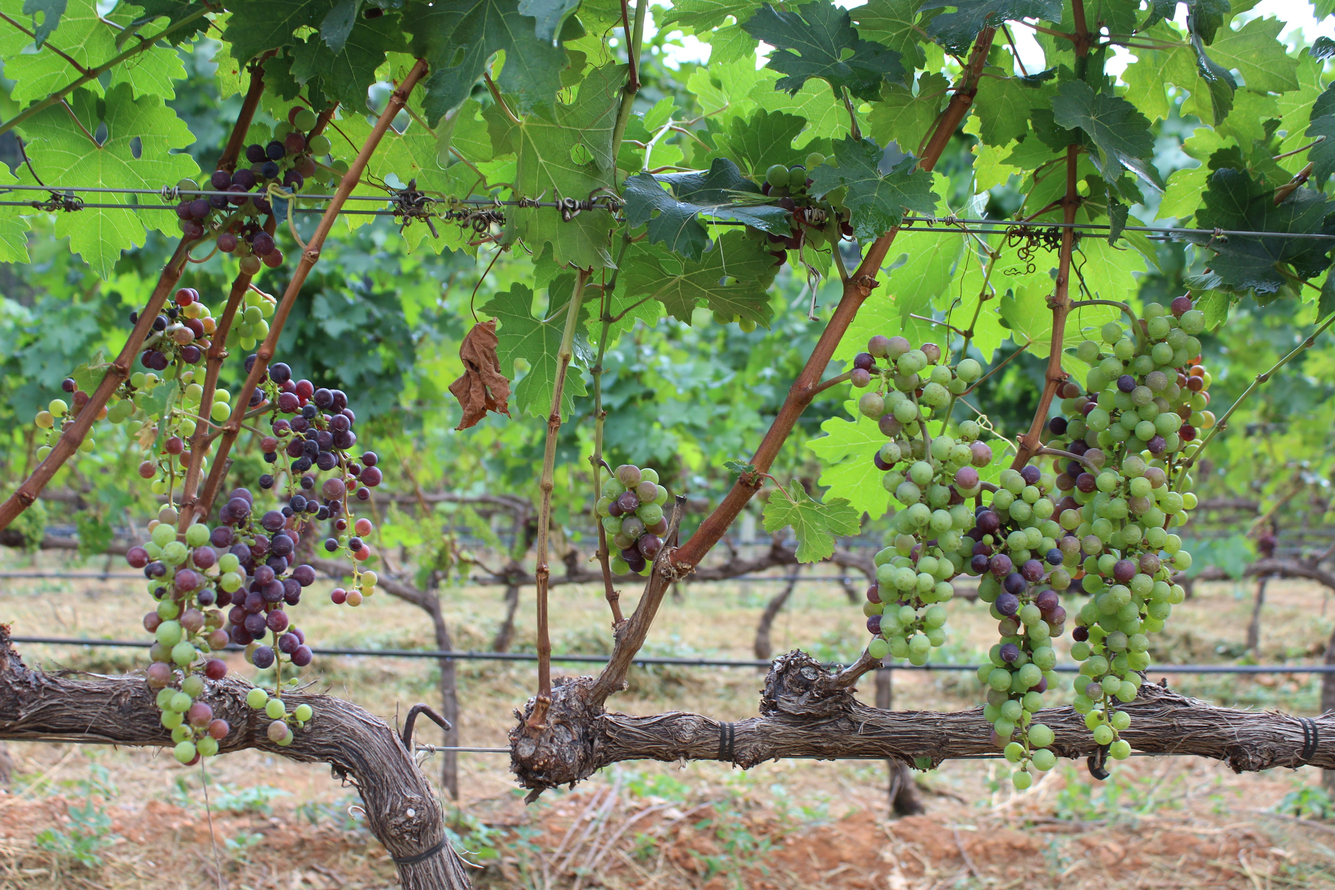leaf: (405, 0, 568, 126), (1182, 168, 1335, 295), (25, 83, 199, 190), (624, 158, 791, 259), (742, 0, 903, 101), (510, 65, 626, 201), (621, 231, 776, 327), (809, 137, 936, 242), (1052, 81, 1163, 190), (482, 283, 570, 416), (291, 14, 407, 113), (807, 402, 889, 519), (763, 480, 860, 562), (921, 0, 1062, 55), (224, 0, 333, 62), (868, 72, 949, 153), (506, 207, 613, 268), (715, 109, 807, 179), (55, 208, 145, 277), (849, 0, 926, 68), (517, 0, 579, 42), (23, 0, 67, 49), (561, 350, 586, 416), (152, 214, 175, 226), (579, 305, 587, 323), (566, 19, 577, 27), (580, 90, 587, 101), (506, 54, 511, 68), (551, 295, 558, 304), (19, 165, 27, 170), (1025, 106, 1028, 114), (427, 95, 430, 102), (655, 154, 657, 157), (313, 38, 319, 39), (572, 35, 577, 36), (429, 118, 429, 119)
